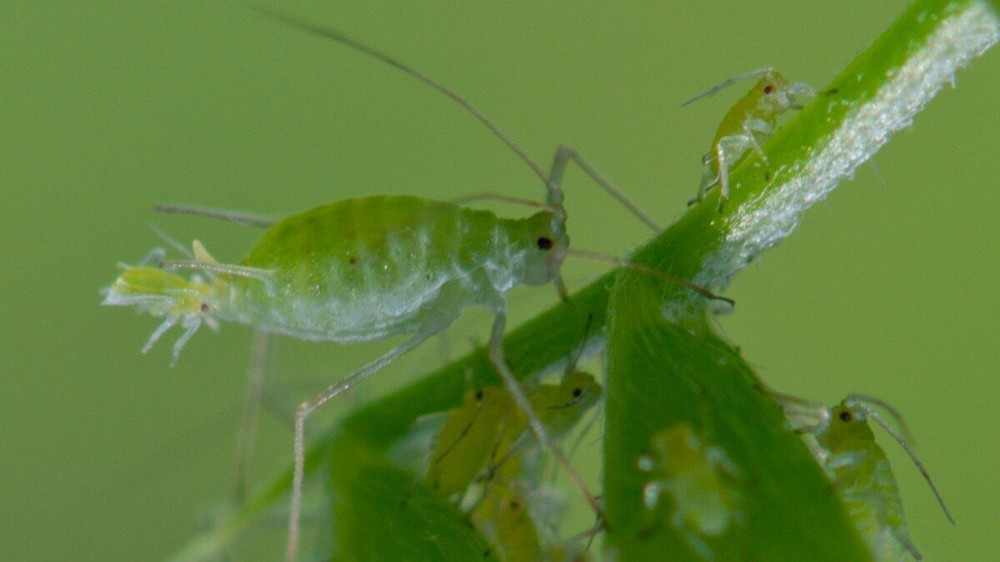Pulgon: (181, 48, 673, 431), (762, 362, 958, 562), (679, 52, 845, 223), (500, 336, 609, 459), (102, 245, 228, 343), (417, 356, 505, 488)
